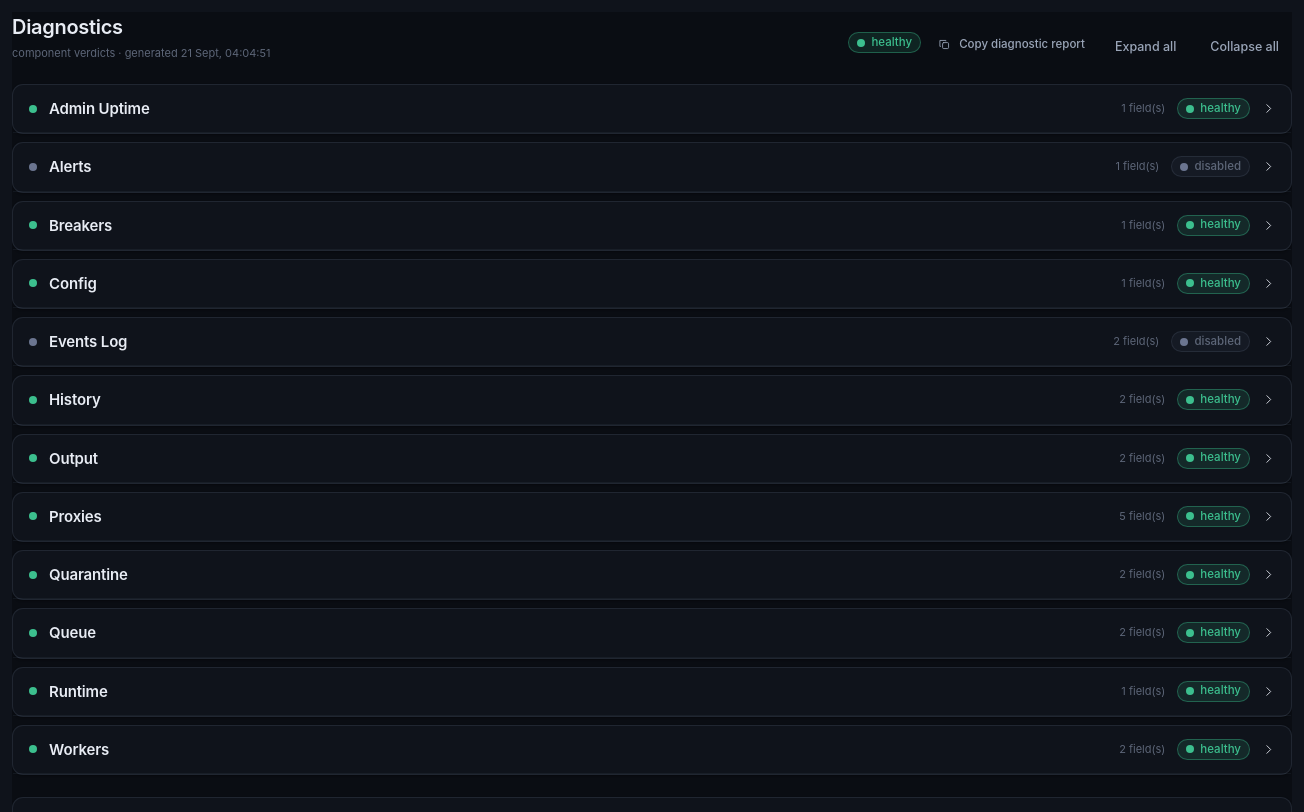
Test case: diagnostics report copy (§27) › copies a redacted structured report and confirms visually
The image size is (1304, 812).
Click the button "Copy diagnostic report": click(1012, 44) 929,32 -> 1094,57
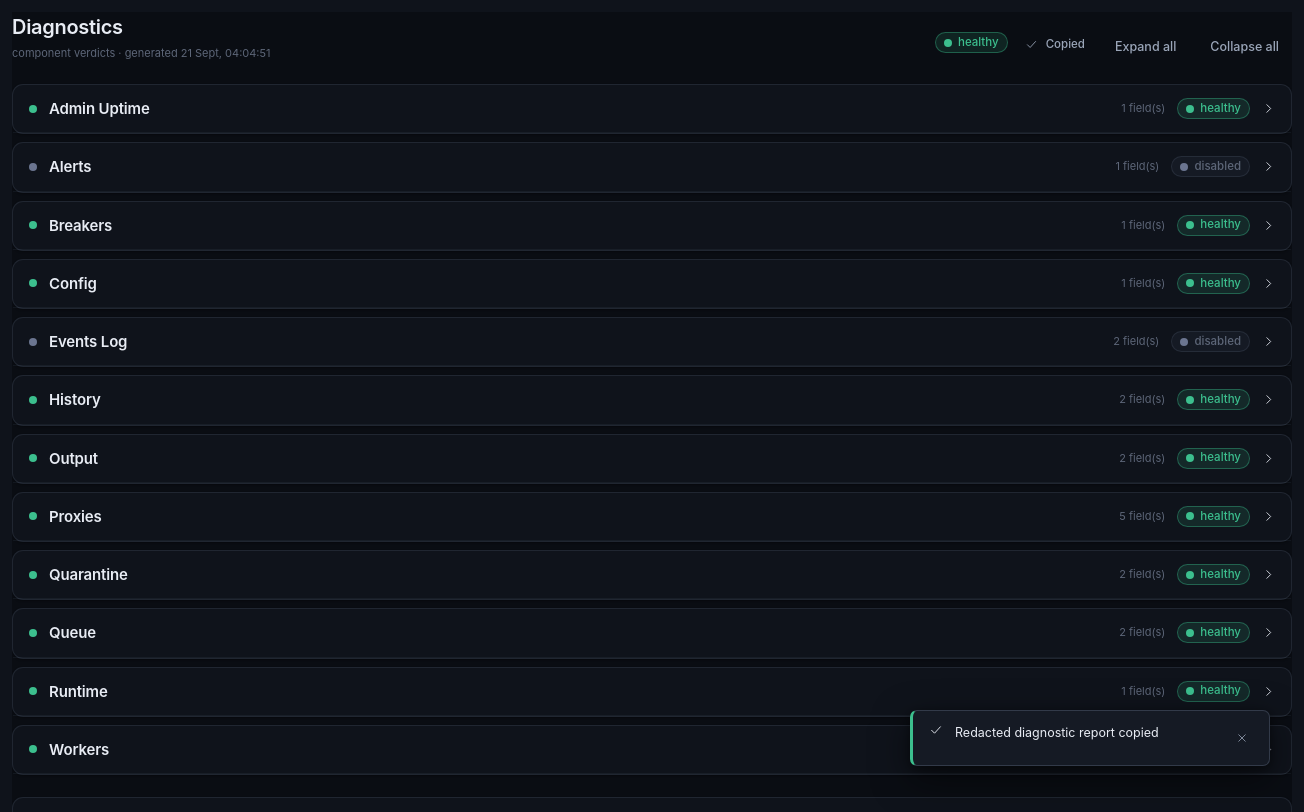
Now the text "Redacted diagnostic report copied" is shown, box 955,723 -> 1159,742
